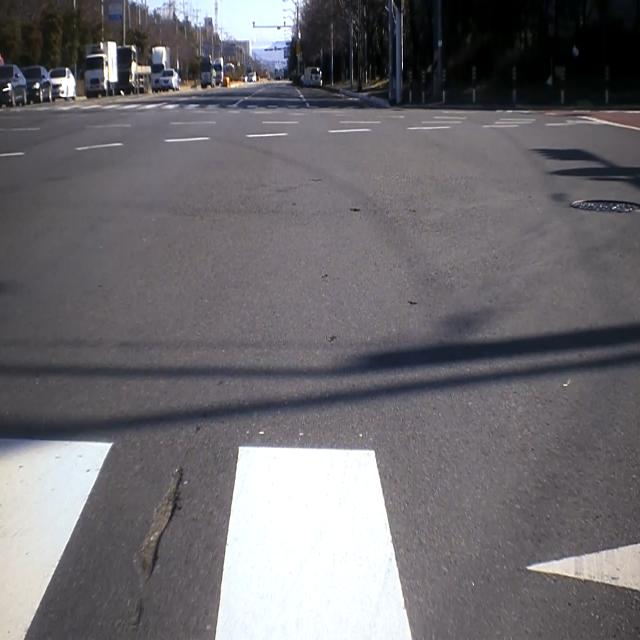Pothole: (132, 452, 194, 594)
